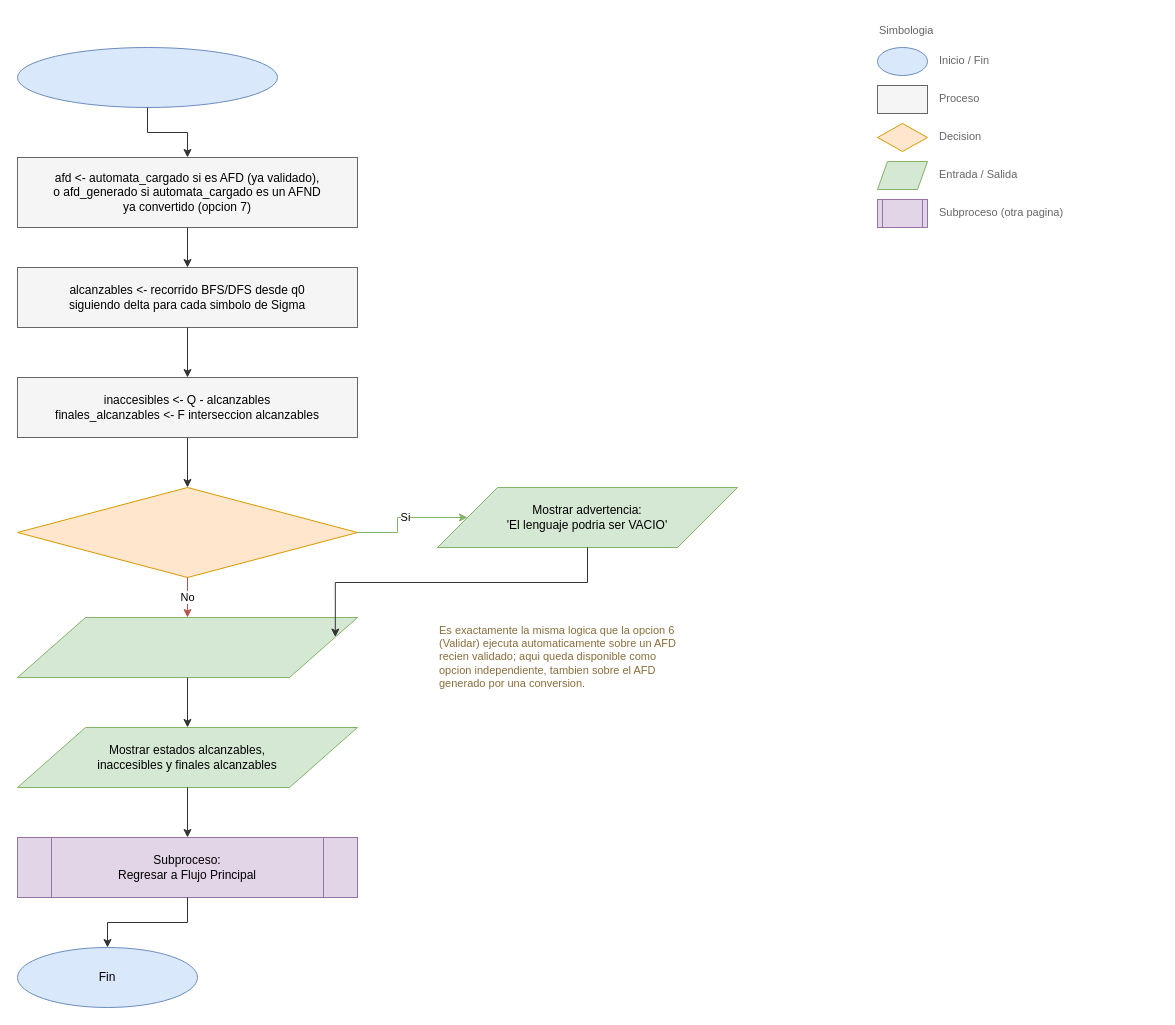
This 1175x1025 diagram has some shape labels left out. The box of each missing label's shape, as (x1, y1, x2, y2) in pixels:
Inicio: Realizar el analisis estructural: (16, 46, 278, 108)
Mostrar: 'El lenguaje NO es vacio': (16, 616, 358, 678)
¿finales_alcanzables esta vacio?: (16, 486, 358, 578)
